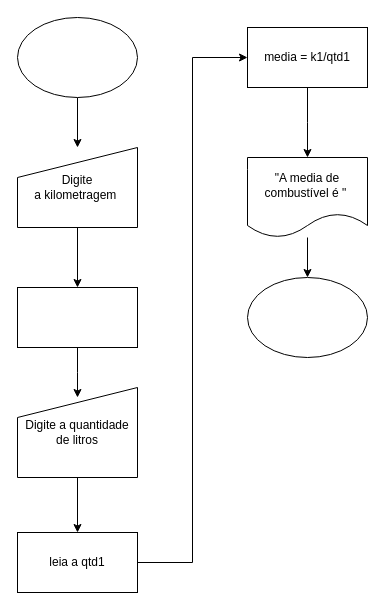
The diagram is 385 pixels wide and 610 high, and some of its shapes have lost their labels. Here are the shapes that lost their labels. From the top down, the centre of each, then its label:
[77,57]: Inicio
[77,317]: leia a k1
[307,317]: Fim
